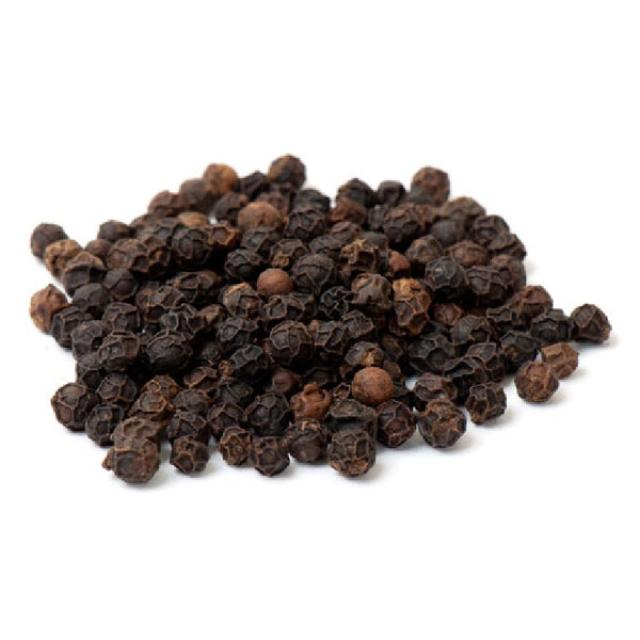Black pepper: (16, 139, 612, 510)
